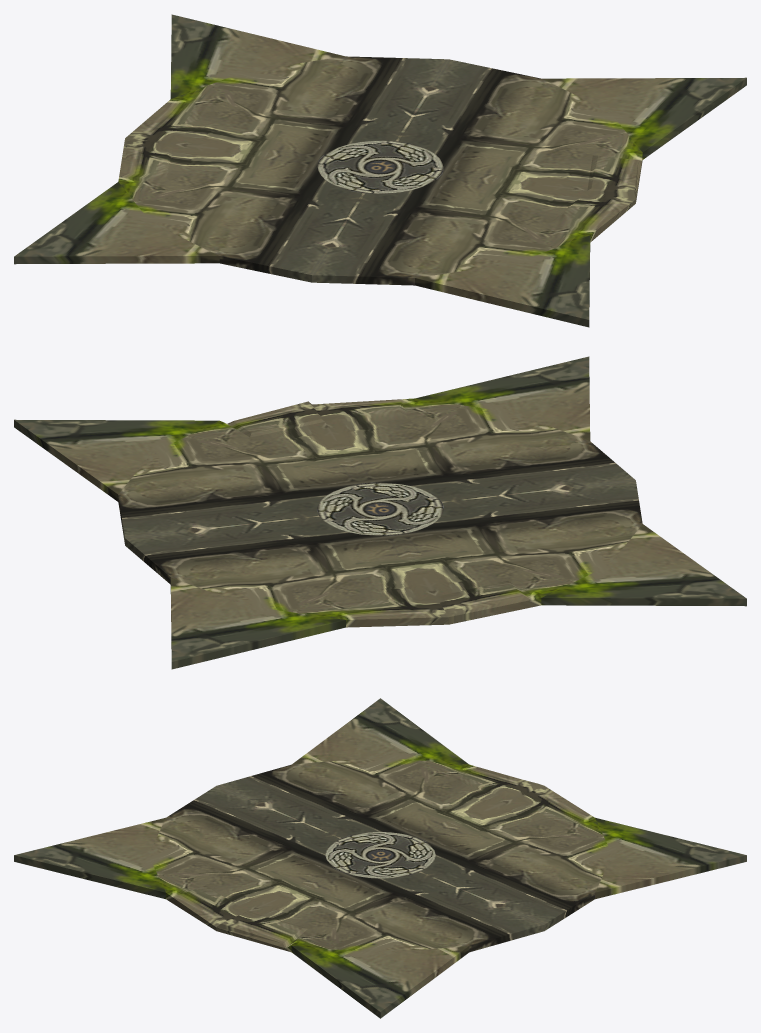
Rendered from ZhongXin01.FBX.
The picture shows the model from 3 angles, top to bottom: view 1: azimuth 30°, elevation 25°; view 2: azimuth 150°, elevation 25°; view 3: azimuth 270°, elevation 25°; orthographic projection. The views are drawn at different scales.
Parts seen in each view (by area): view 1: 对象005; view 2: 对象005; view 3: 对象005.
Part boxes in pixels (left/top/right/bottom): 对象005: left=14, top=14, right=746, bottom=327; 对象005: left=14, top=356, right=746, bottom=669; 对象005: left=14, top=698, right=746, bottom=1018.
Size of the model in its own units: 574 by 9.5 by 566.
